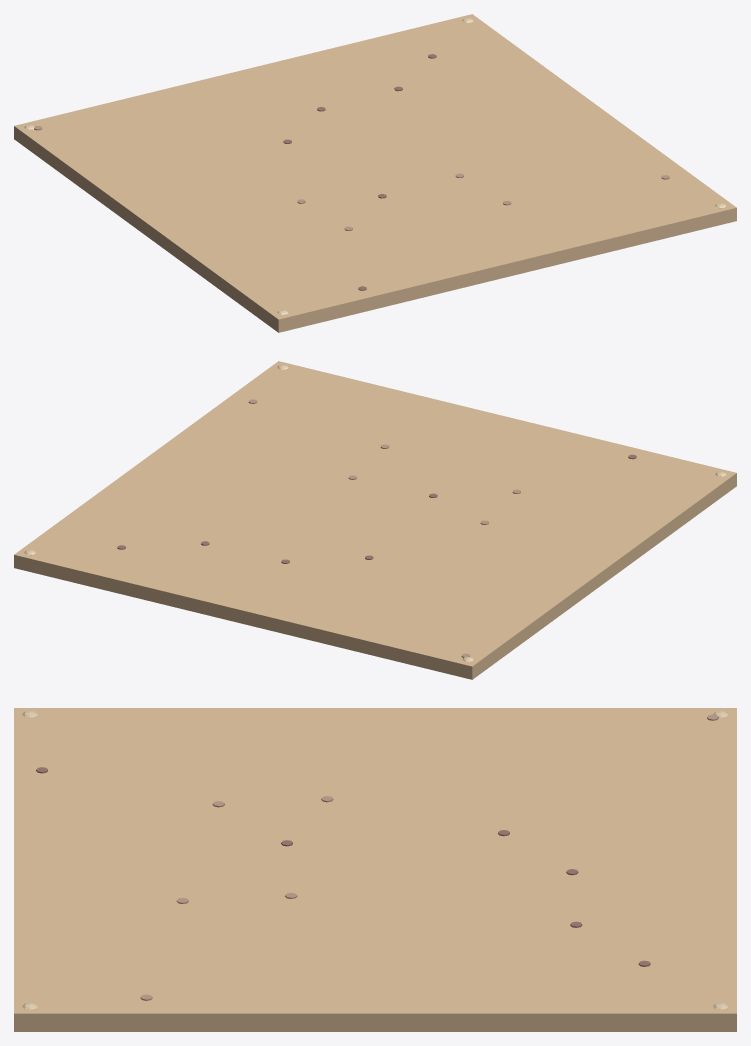
Rendered from suelo_galleta.glb.
3 renders of one model, top to bottom at view 1: azimuth 30°, elevation 25°; view 2: azimuth 150°, elevation 25°; view 3: azimuth 270°, elevation 25°, orthographic. The views are drawn at different scales.
Visible parts, largest first — view 1: suelo_galleta; view 2: suelo_galleta; view 3: suelo_galleta.
Boxes of the visible parts, left/top/right/bottom form: suelo_galleta: left=14, top=14, right=736, bottom=332; suelo_galleta: left=14, top=361, right=736, bottom=679; suelo_galleta: left=14, top=708, right=736, bottom=1031.
Bounding box in the file's own units: 18 × 0.568 × 18.
